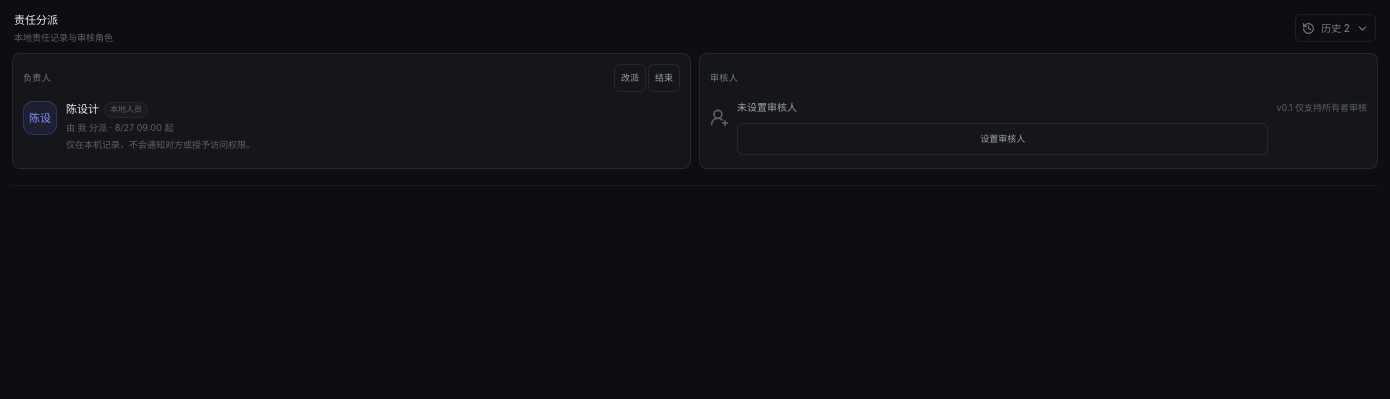
it: TaskAssignmentsSection › shows current snapshots and paginates inferred assignment history
Expected: the text "陈设计" is shown, x1=66 y1=102 x2=99 y2=118
Expected: the text "仅在本机记录，不会通知对方或授予访问权限。" is shown, x1=66 y1=139 x2=255 y2=150
Click the button "历史 2".
click(1336, 28)  # box x1=1295 y1=14 x2=1376 y2=42
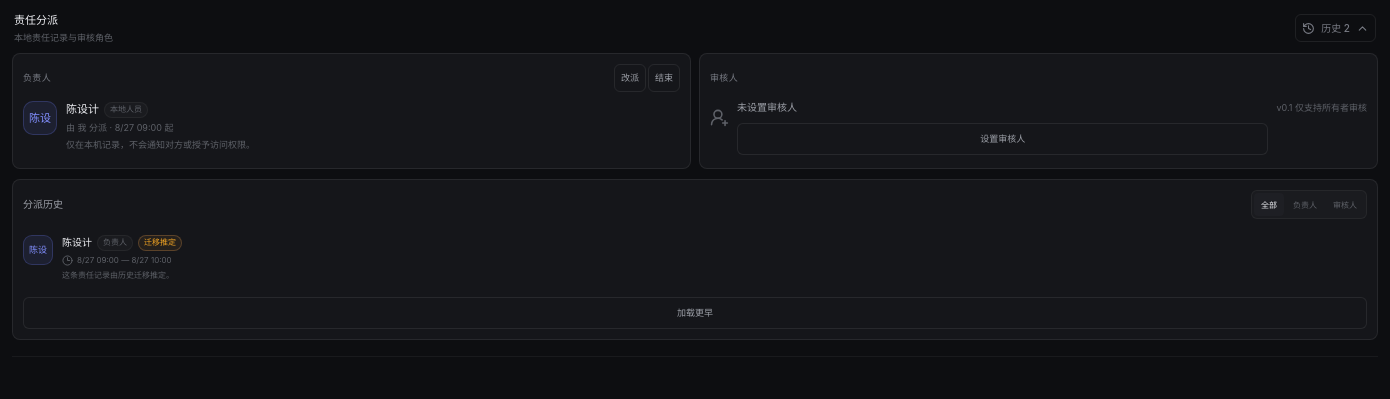
Result: the text "迁移推定" is shown at x1=138 y1=235 x2=182 y2=251
Click the button "加载更早".
click(695, 313)  # box x1=23 y1=297 x2=1367 y2=329
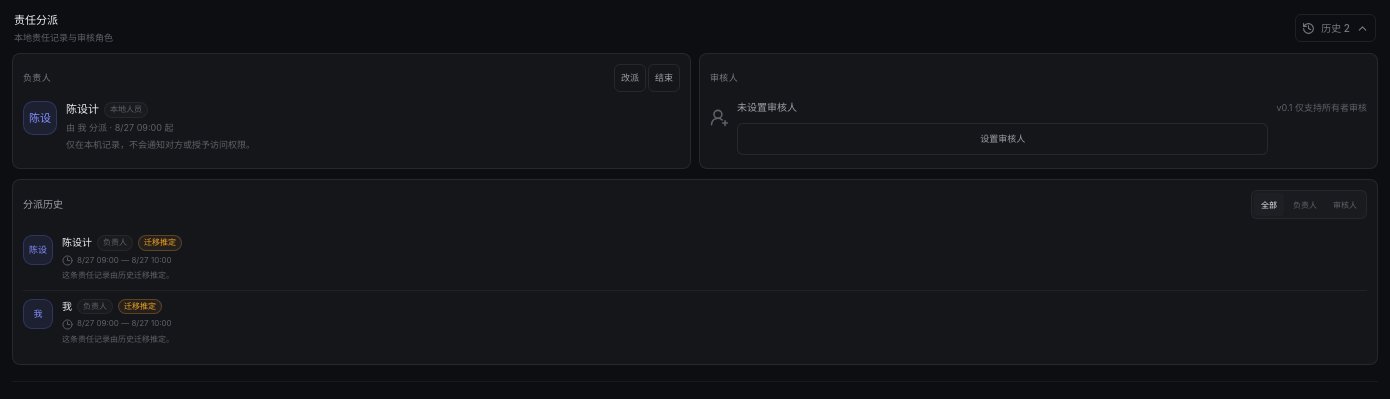
Result: the 1st text "我" is shown at x1=23 y1=299 x2=53 y2=329
Result: the text "迁移推定" is shown 2 times at x1=138 y1=235 x2=182 y2=251; x1=118 y1=299 x2=162 y2=314
